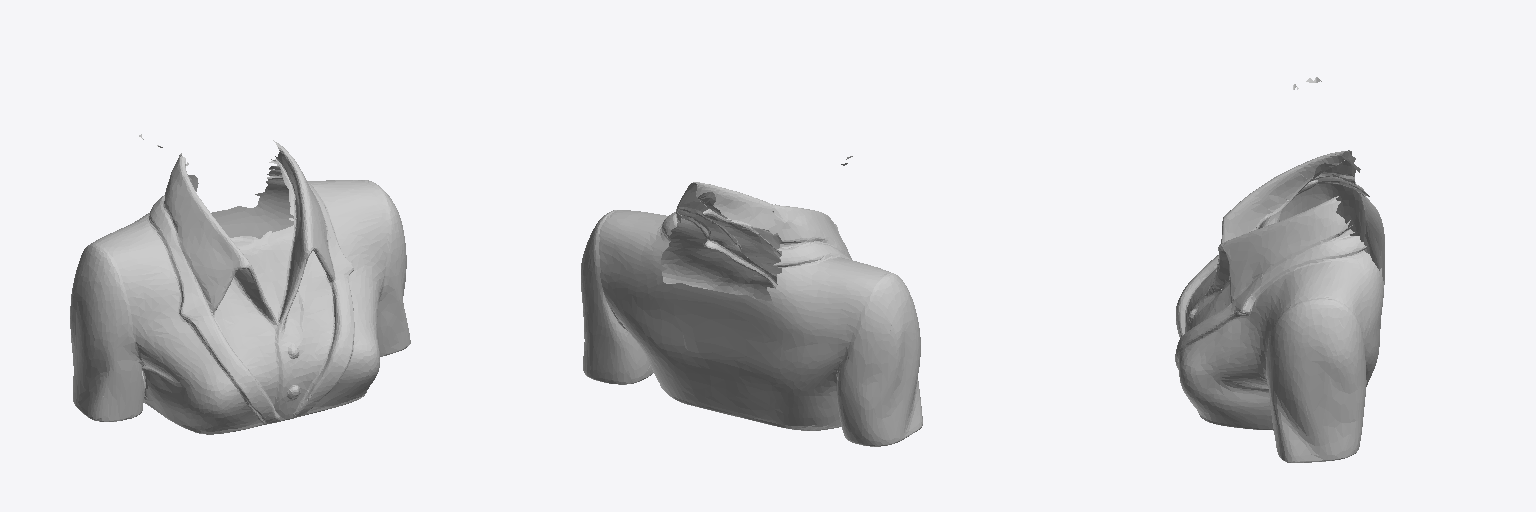
File: cloth2.obj
The picture shows the model from 3 angles: view 1: azimuth 30°, elevation 25°; view 2: azimuth 150°, elevation 25°; view 3: azimuth 270°, elevation 25°; orthographic projection.
Bounding box in the file's own units: 0.7226 × 0.5632 × 0.4091.